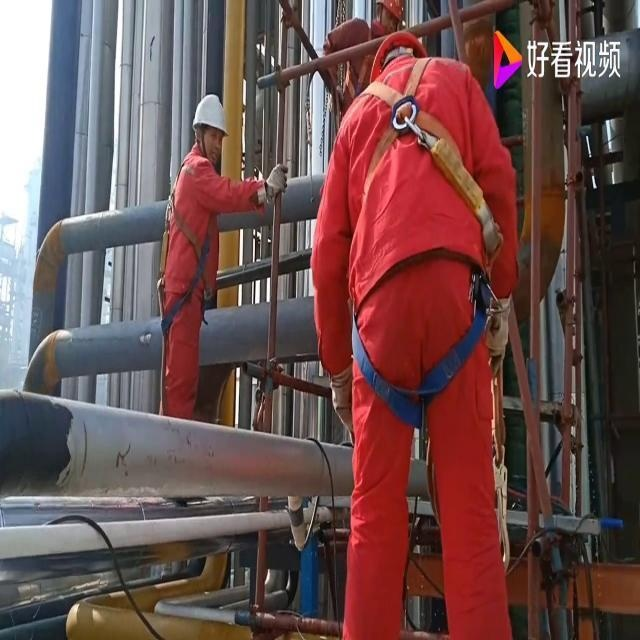Arnes_seguridad: (359, 51, 460, 211), (155, 144, 219, 320)
